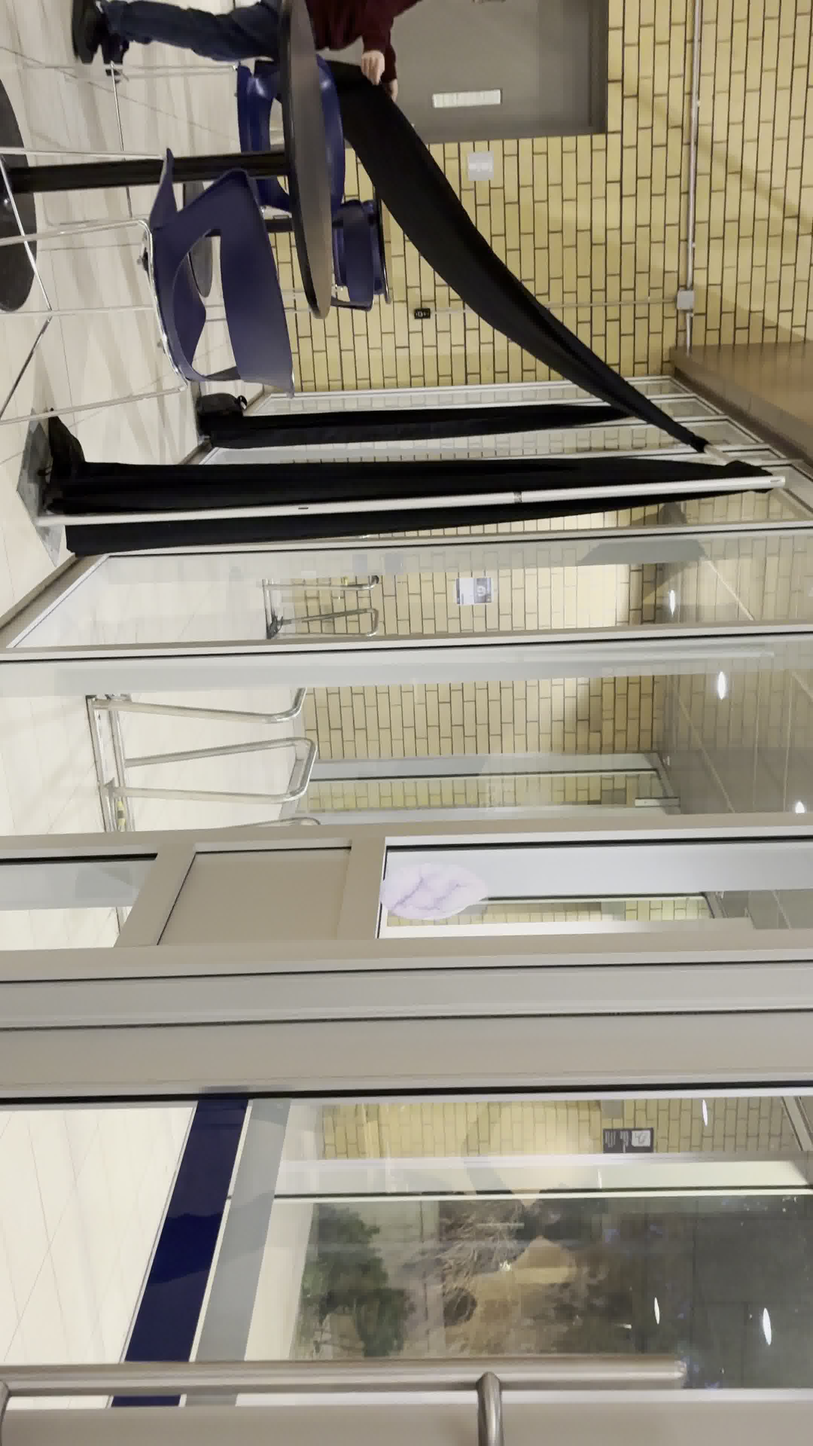Target: (377, 860, 491, 918)
